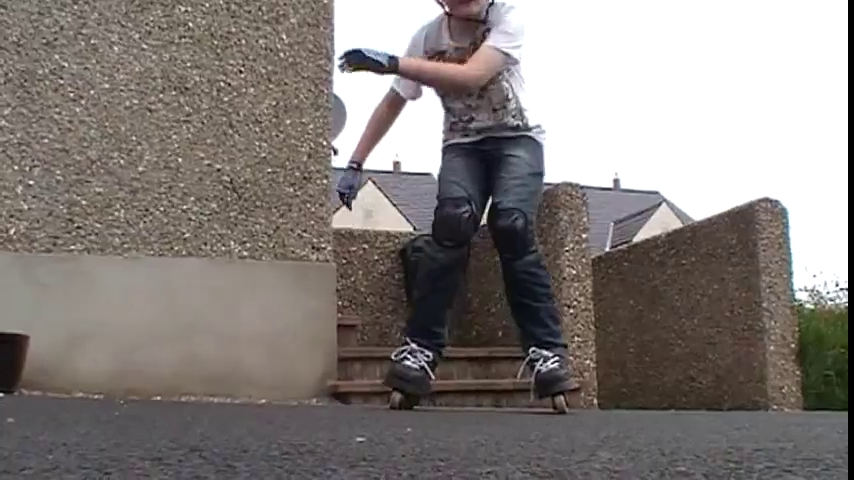person: (337, 1, 572, 414)
